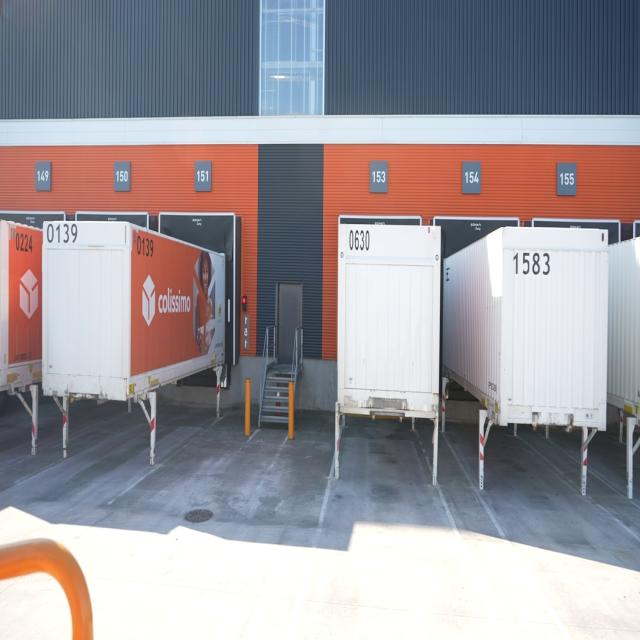Code: (511, 249, 552, 281), (42, 220, 80, 249), (134, 229, 156, 263), (348, 228, 372, 254), (12, 230, 34, 255)
